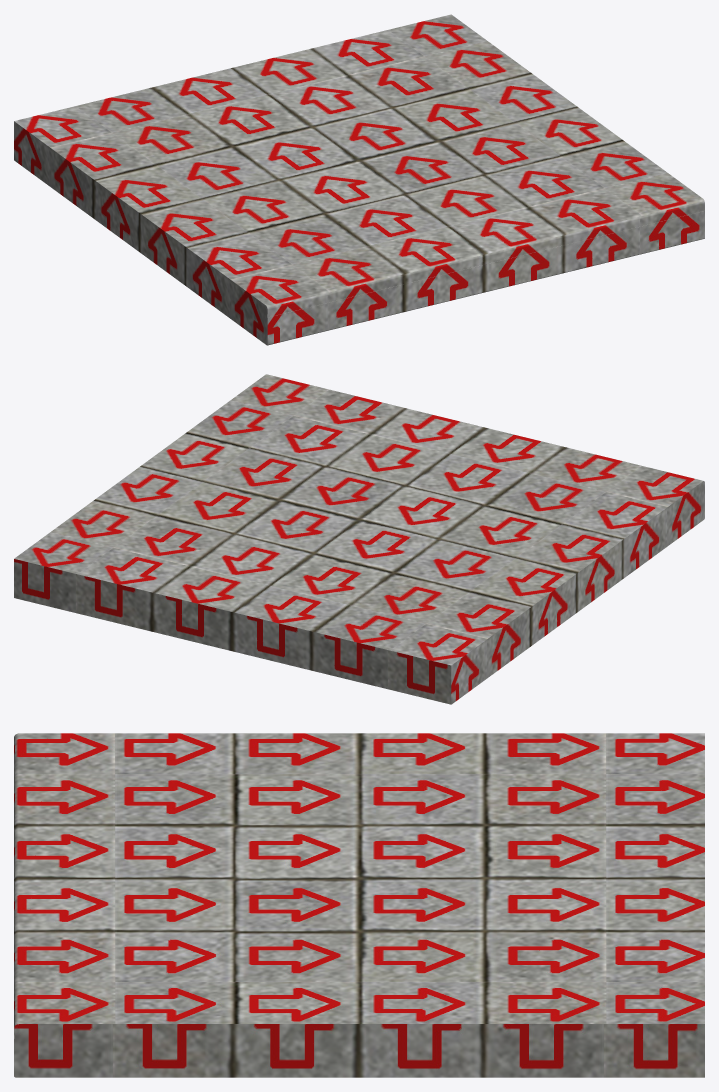
The model's file is worktop-fixed.glb.
3 renders of one model, top to bottom at view 1: azimuth 30°, elevation 25°; view 2: azimuth 150°, elevation 25°; view 3: azimuth 270°, elevation 25°, orthographic. The views are drawn at different scales.
Parts seen in each view (by area): view 1: configurator_container; view 2: configurator_container; view 3: configurator_container.
Boxes of the visible parts, bbox=[...] form: configurator_container: bbox=[14, 14, 704, 345]; configurator_container: bbox=[14, 374, 704, 704]; configurator_container: bbox=[14, 733, 704, 1077].
Size of the model in its own units: 70 by 6 by 70.3.
Materials: 1 (1 with a texture image).
